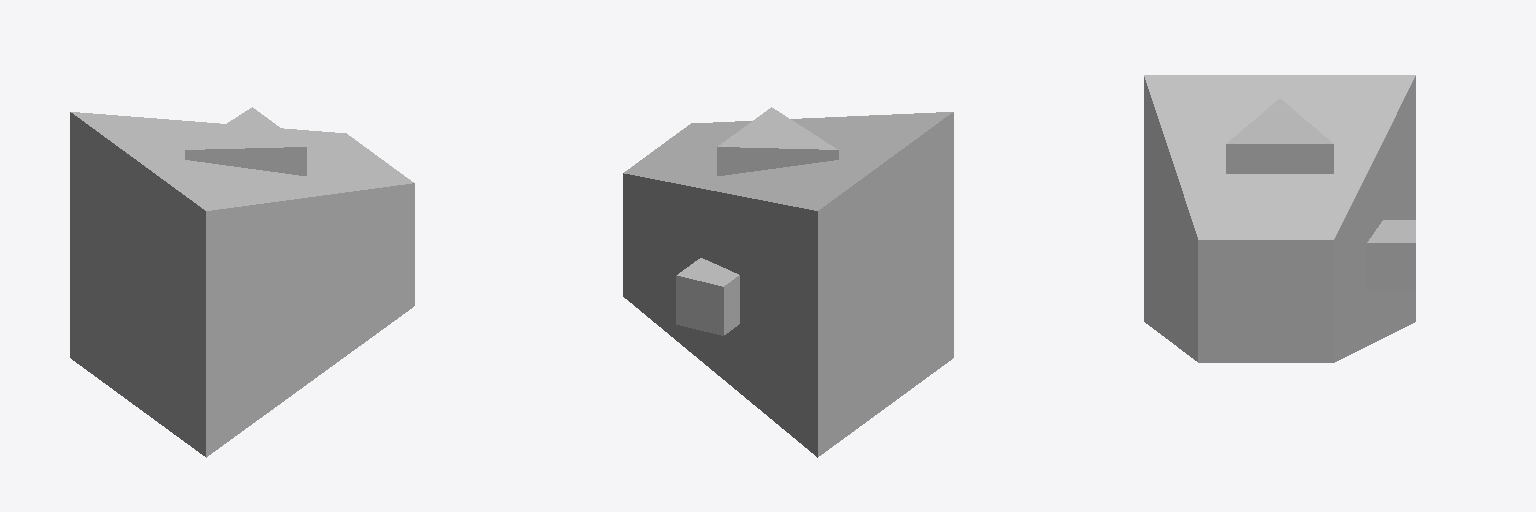
The model's file is thing-x+y.obj.
3 renders of one model, left to right at view 1: azimuth 30°, elevation 25°; view 2: azimuth 150°, elevation 25°; view 3: azimuth 270°, elevation 25°, orthographic.
Parts seen in each view (by area): view 1: Cube; view 2: Cube; view 3: Cube.
Part boxes in pixels (bbox=[...]): Cube: bbox=[70, 107, 414, 457]; Cube: bbox=[623, 107, 953, 457]; Cube: bbox=[1144, 75, 1415, 362].
Size of the model in its own units: 1 by 1 by 1.